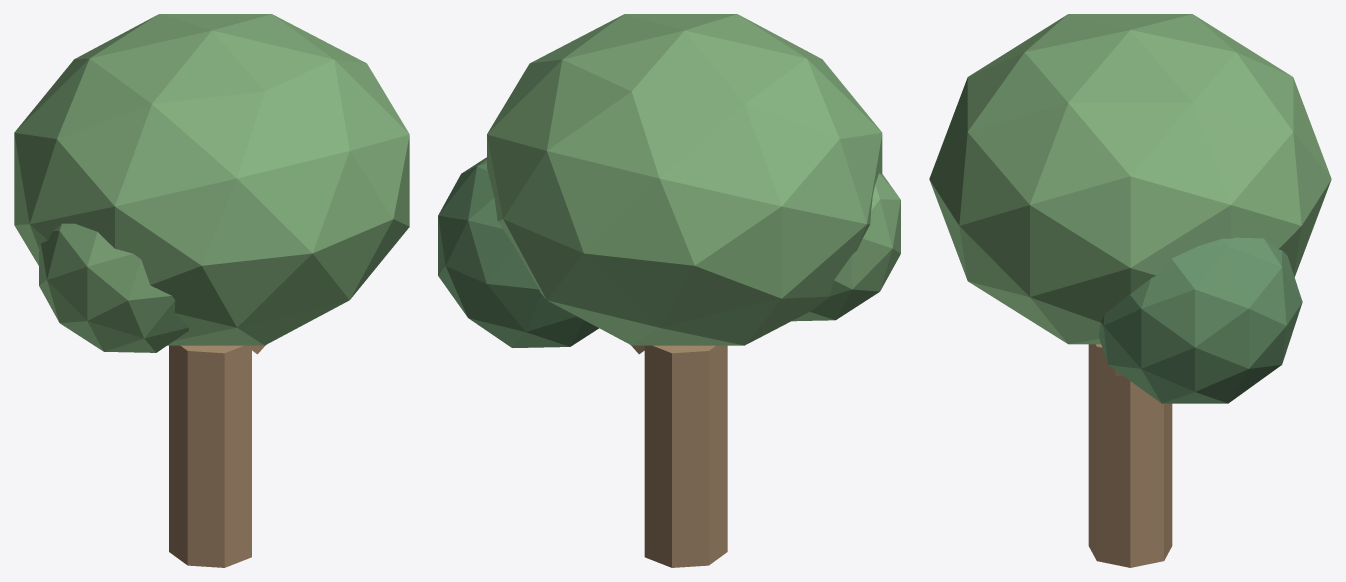
File: tree_oak.glb
The picture shows the model from 3 angles, left to right: view 1: azimuth 30°, elevation 25°; view 2: azimuth 150°, elevation 25°; view 3: azimuth 270°, elevation 25°; orthographic projection.
Visible parts, largest first — view 1: tree_oak_02, tree_oak_00, tree_oak_04; view 2: tree_oak_02, tree_oak_00, tree_oak_03, tree_oak_04; view 3: tree_oak_02, tree_oak_03, tree_oak_00.
Boxes of the visible parts, x1,y1,x2,y2 form: tree_oak_02: [14, 14, 409, 345]; tree_oak_00: [169, 345, 251, 567]; tree_oak_04: [39, 223, 188, 352]; tree_oak_02: [487, 14, 882, 345]; tree_oak_00: [644, 345, 727, 567]; tree_oak_03: [438, 157, 598, 347]; tree_oak_04: [792, 173, 900, 321]; tree_oak_02: [929, 14, 1331, 344]; tree_oak_03: [1098, 237, 1302, 403]; tree_oak_00: [1088, 344, 1172, 567].
Bounding box in the file's own units: 2.1 × 2.66 × 1.87.
